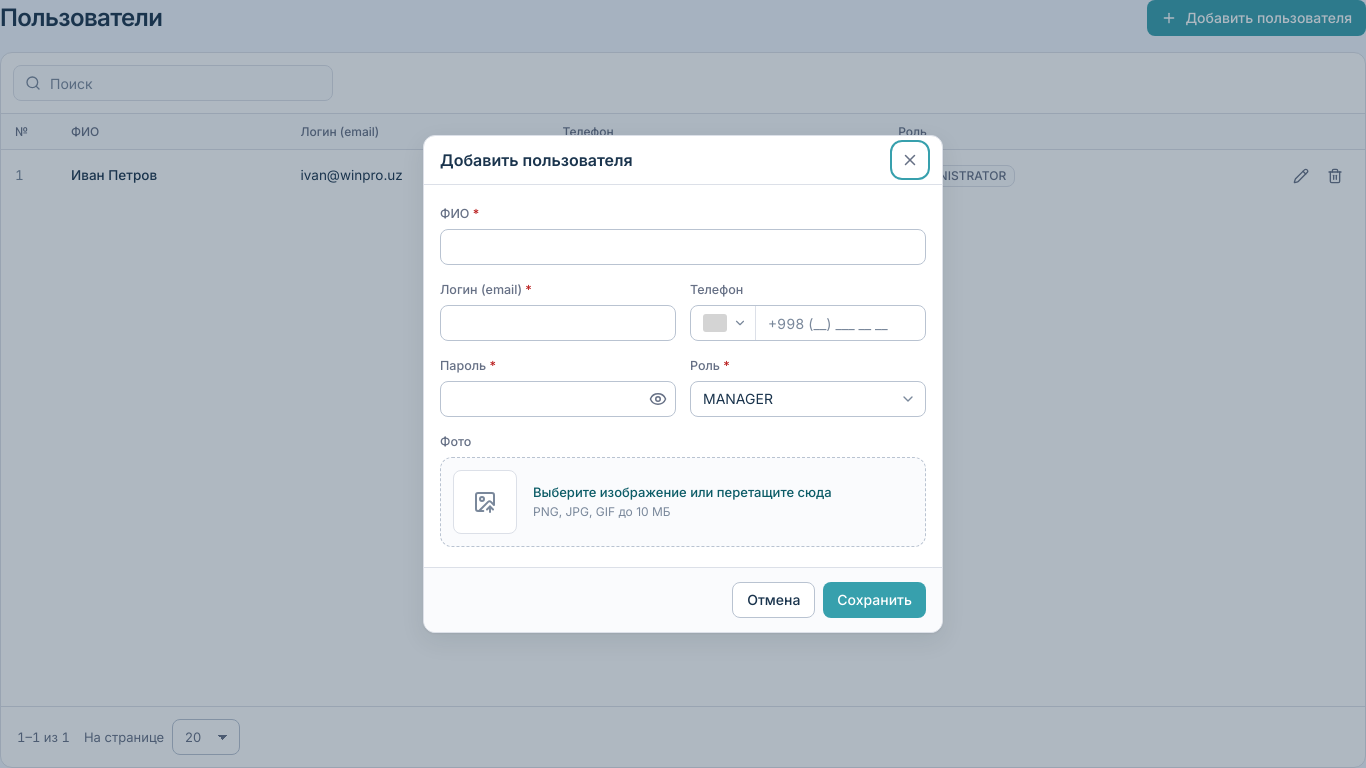
Test case: Users › checks the login is an email and asks for a password
Type "Сардор" into the field labelled "ФИО *" at (683, 247), box x1=440 y1=229 x2=926 y2=265
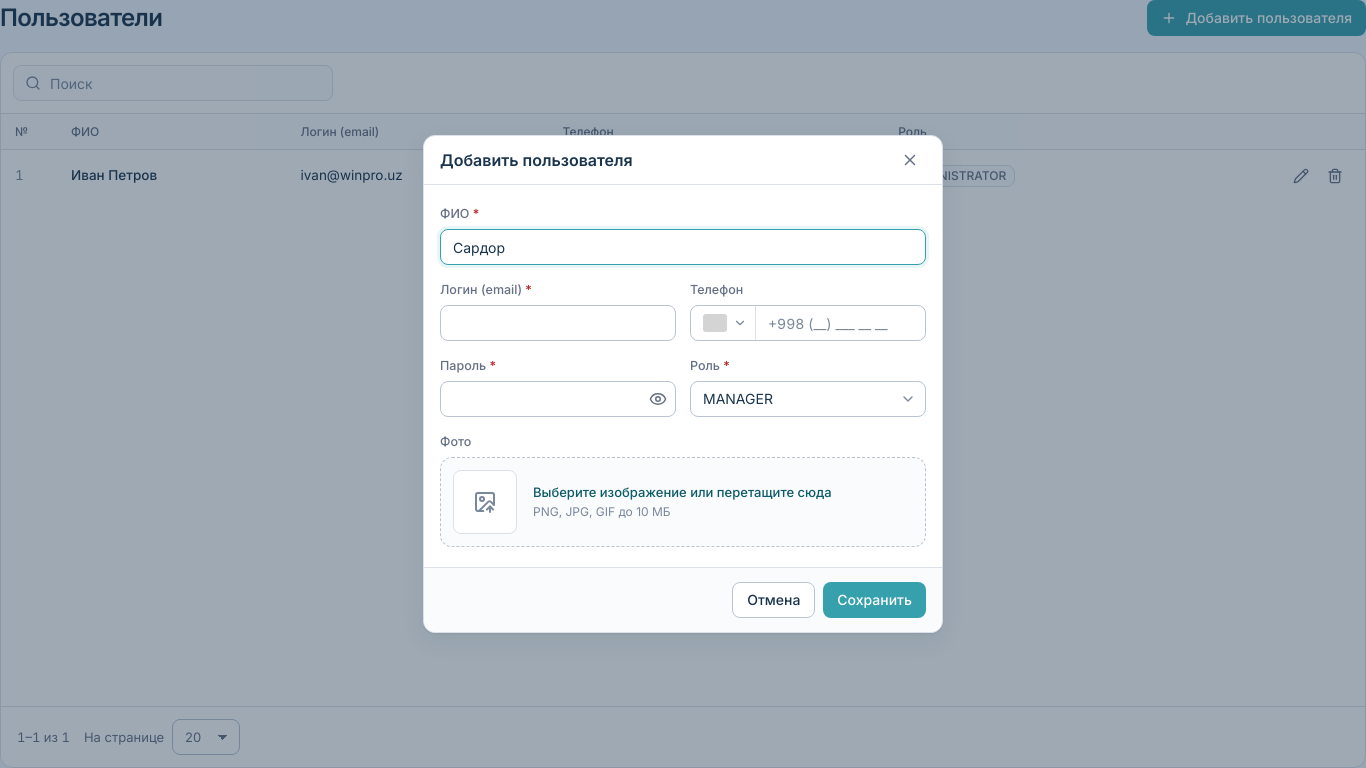
Type "sardor" into the field labelled "Логин (email) *" at (558, 323), box x1=440 y1=305 x2=676 y2=341
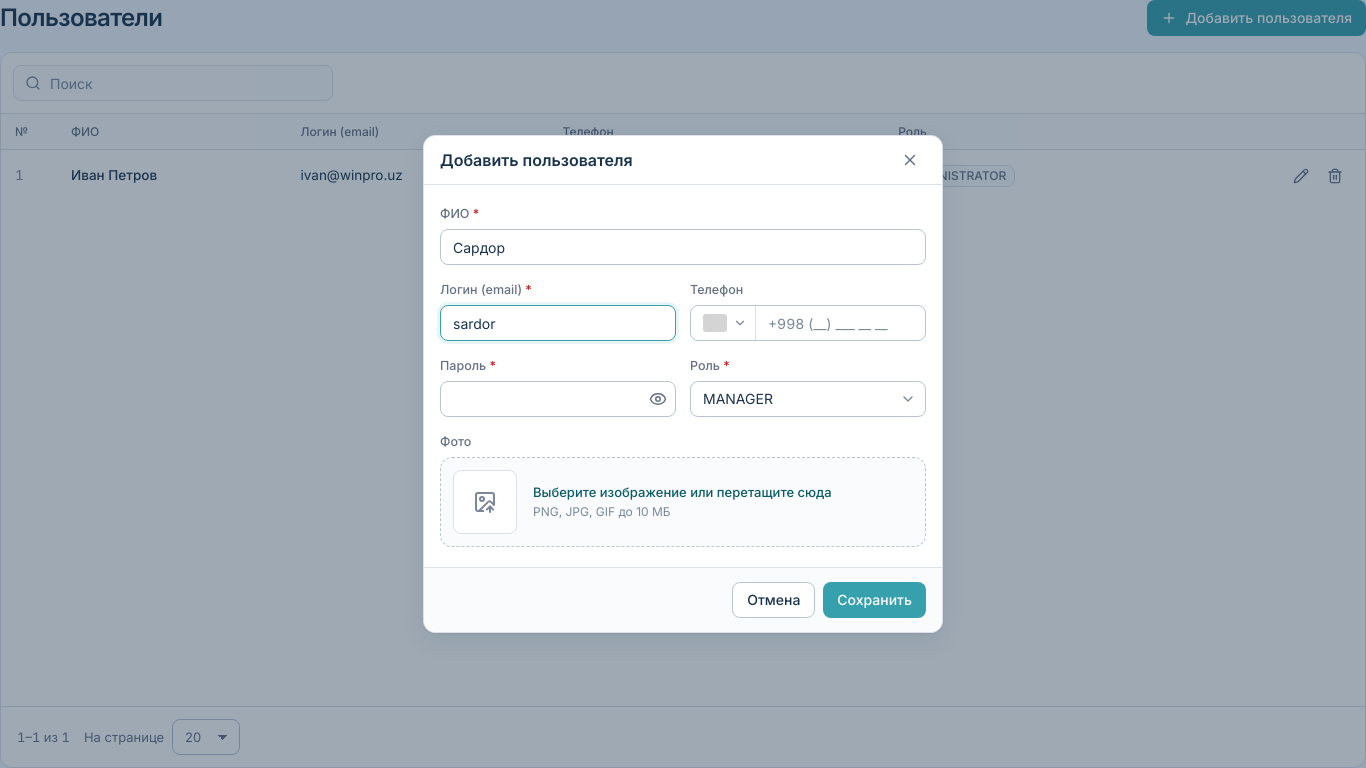
Click the button "Сохранить" at (875, 600), box x1=823 y1=582 x2=926 y2=618
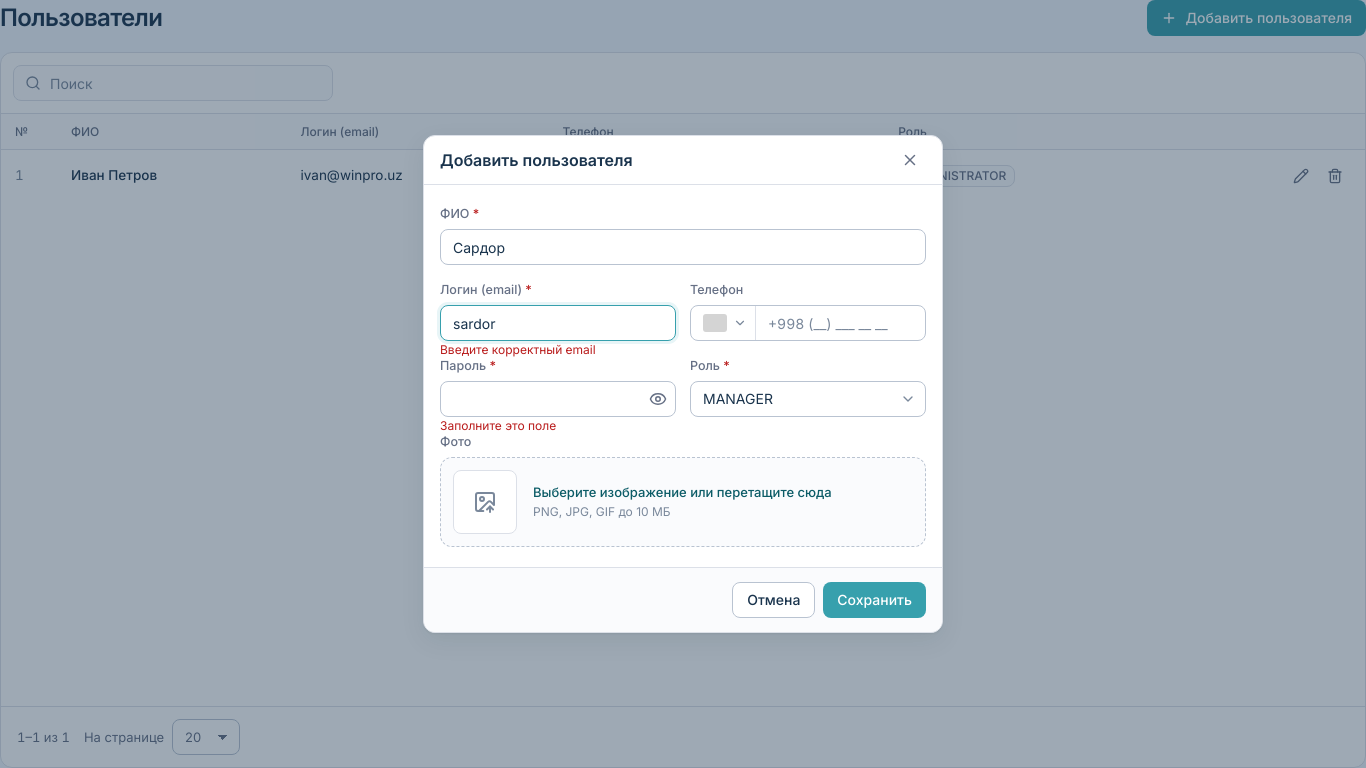
Check: the text "Введите корректный email" is shown, box x1=440 y1=343 x2=596 y2=357
Check: the text "Заполните это поле" is shown, box x1=440 y1=419 x2=556 y2=433
